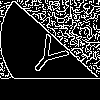Y: (25, 25, 76, 82)
